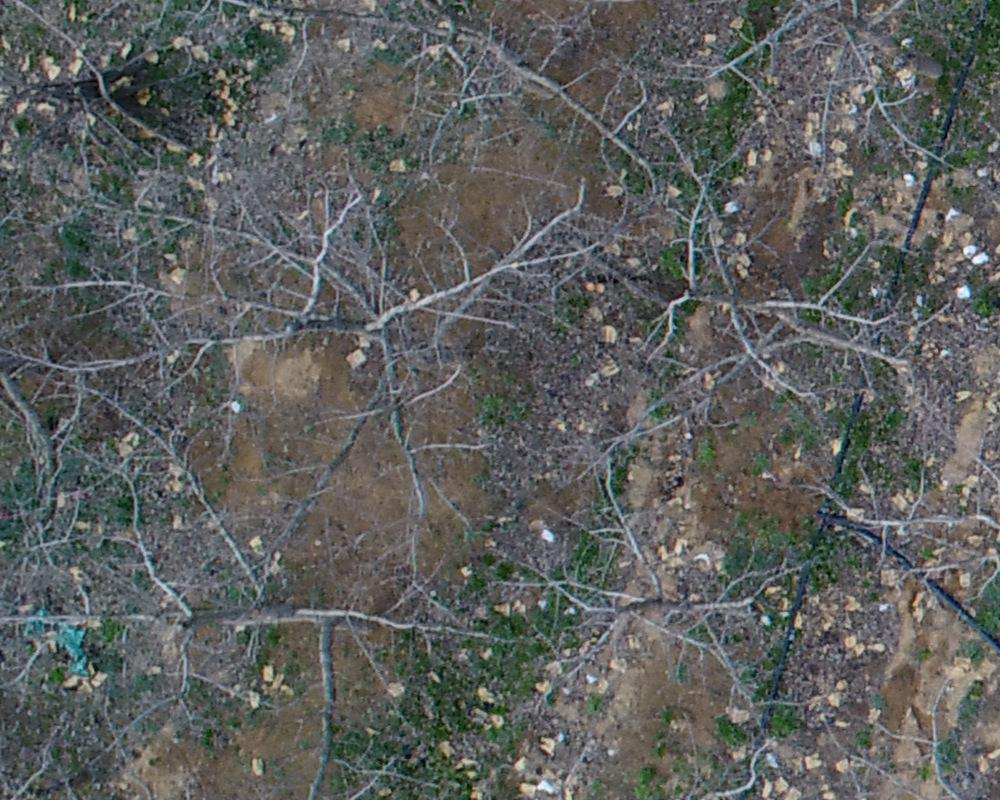apple: (22, 168, 608, 548), (15, 438, 557, 790), (579, 107, 933, 477), (50, 10, 677, 208), (495, 452, 840, 751), (805, 435, 990, 703)
